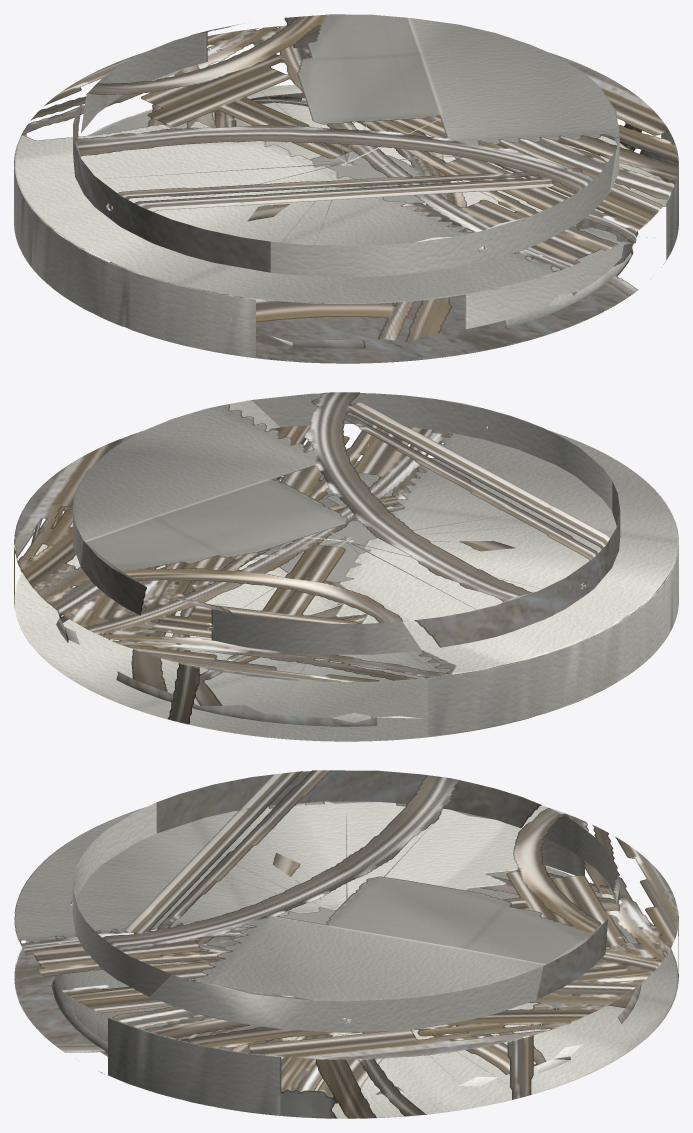
The model's file is raw_model.obj.
3 renders of one model, top to bottom at view 1: azimuth 30°, elevation 25°; view 2: azimuth 150°, elevation 25°; view 3: azimuth 270°, elevation 25°, orthographic.
Parts seen in each view (by area): view 1: solid_001, solid_002, solid_003; view 2: solid_001, solid_002, solid_003; view 3: solid_001, solid_002, solid_003.
Boxes of the visible parts, bbox=[...] form: solid_001: bbox=[14, 25, 678, 363]; solid_002: bbox=[73, 14, 619, 276]; solid_003: bbox=[82, 93, 638, 348]; solid_001: bbox=[14, 424, 678, 741]; solid_002: bbox=[72, 392, 620, 654]; solid_003: bbox=[56, 473, 561, 726]; solid_001: bbox=[14, 801, 678, 1118]; solid_002: bbox=[72, 770, 620, 1032]; solid_003: bbox=[51, 907, 641, 1103].
Size of the model in its own units: 0.6448 by 0.1495 by 0.6448.
